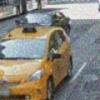buses: (0, 25, 73, 100)
